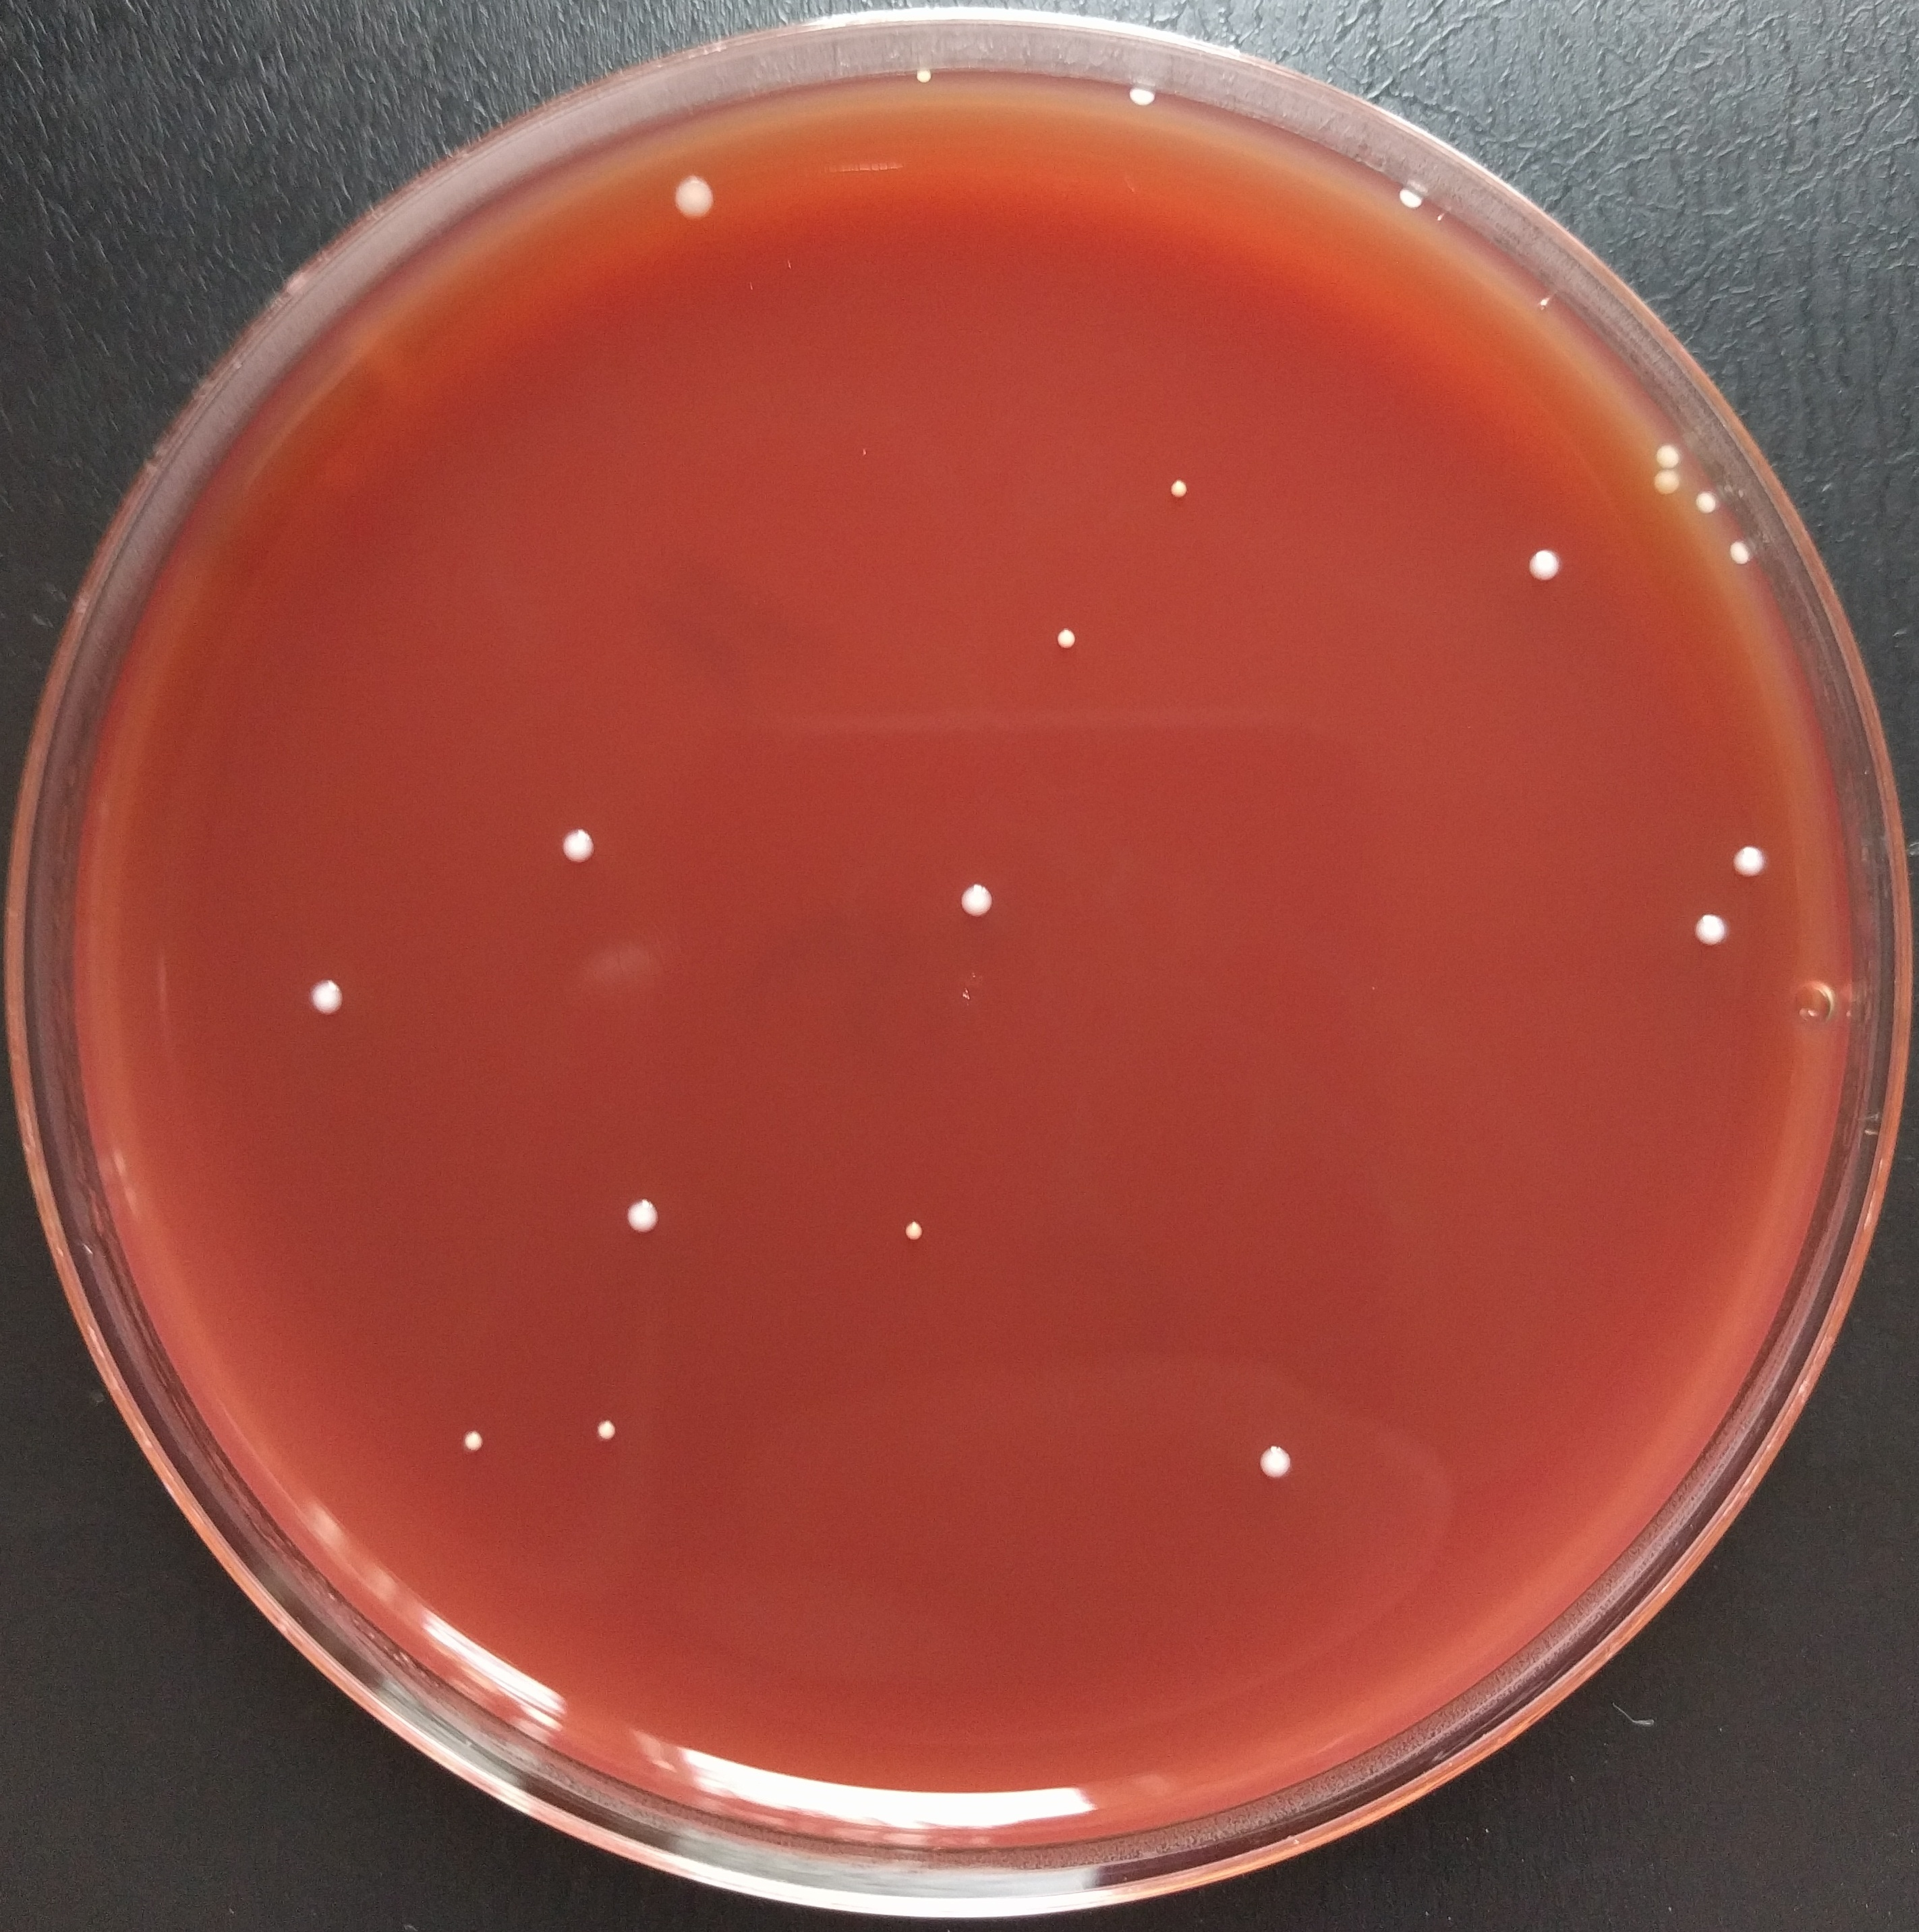sp24: (608, 1173, 685, 1251), (648, 169, 738, 232), (288, 964, 369, 1031), (548, 810, 608, 885), (578, 1398, 645, 1465), (1244, 1419, 1297, 1496), (889, 1200, 952, 1261), (945, 876, 1010, 933), (441, 1414, 510, 1467), (1142, 467, 1213, 516), (1033, 608, 1095, 664), (1717, 836, 1782, 883), (1680, 903, 1734, 959), (1515, 536, 1573, 587), (1388, 177, 1434, 223), (1638, 467, 1694, 497), (1719, 536, 1763, 571), (1687, 488, 1731, 522), (1123, 81, 1162, 116), (905, 61, 942, 90), (1647, 439, 1684, 467), (1531, 288, 1559, 311)
